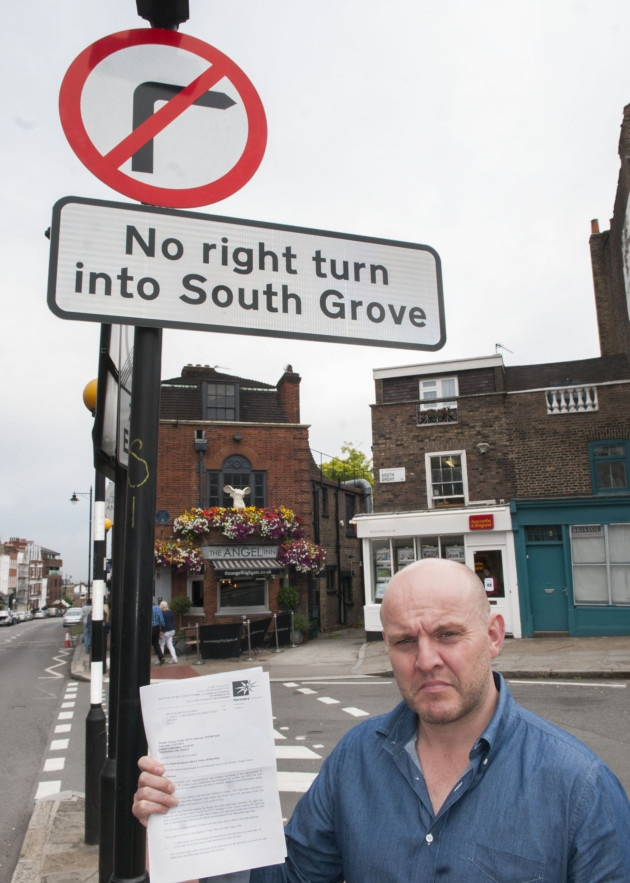No_right_turn: (59, 27, 268, 211)
